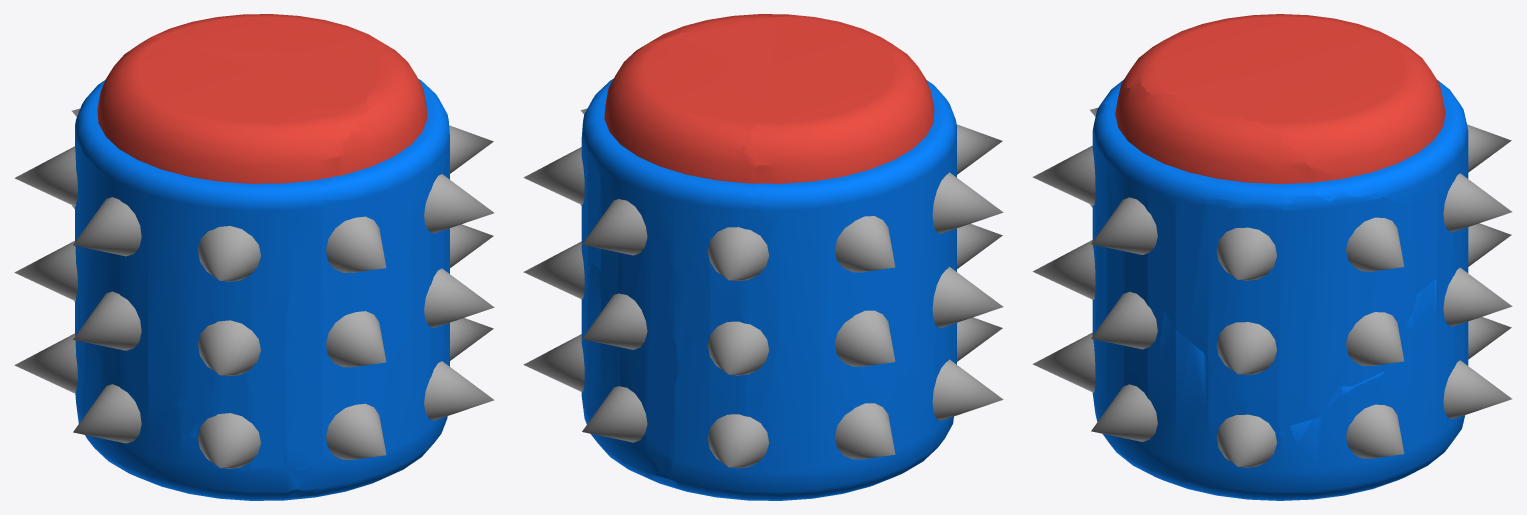
Rendered from obstacle_crush.fbx.
3 renders of one model, left to right at view 1: azimuth 30°, elevation 25°; view 2: azimuth 150°, elevation 25°; view 3: azimuth 270°, elevation 25°, orthographic.
Visible parts, largest first — view 1: shard_06, shard_05, shard_01, shard_07, shard_08, shard_11, shard_09, shard_02, shard_03, shard_12; view 2: shard_06, shard_07, shard_11, shard_10, shard_08, shard_02, shard_04, shard_05, shard_01, shard_12, shard_09; view 3: shard_02, shard_08, shard_11, shard_05, shard_06, shard_09, shard_10, shard_01, shard_03, shard_12, shard_04, shard_07.
Part boxes in pixels (left/top/right/bottom): shard_06: left=14, top=37, right=370, bottom=395; shard_05: left=256, top=44, right=449, bottom=365; shard_01: left=148, top=166, right=445, bottom=469; shard_07: left=14, top=205, right=320, bottom=500; shard_08: left=297, top=318, right=494, bottom=498; shard_11: left=71, top=14, right=384, bottom=116; shard_09: left=405, top=233, right=494, bottom=355; shard_02: left=428, top=121, right=493, bottom=268; shard_03: left=424, top=174, right=493, bottom=233; shard_12: left=286, top=401, right=355, bottom=457; shard_06: left=728, top=15, right=1003, bottom=366; shard_07: left=664, top=262, right=1003, bottom=500; shard_11: left=581, top=23, right=773, bottom=340; shard_10: left=582, top=242, right=682, bottom=490; shard_08: left=523, top=286, right=676, bottom=488; shard_02: left=523, top=85, right=605, bottom=309; shard_04: left=582, top=199, right=647, bottom=255; shard_05: left=589, top=14, right=795, bottom=105; shard_01: left=955, top=317, right=1002, bottom=361; shard_12: left=584, top=158, right=611, bottom=255; shard_09: left=585, top=262, right=608, bottom=307; shard_02: left=1133, top=192, right=1440, bottom=446; shard_08: left=1032, top=294, right=1511, bottom=500; shard_11: left=1197, top=47, right=1511, bottom=209; shard_05: left=1032, top=86, right=1345, bottom=230; shard_06: left=1090, top=14, right=1444, bottom=207; shard_09: left=1091, top=250, right=1443, bottom=441; shard_10: left=1437, top=227, right=1512, bottom=419; shard_01: left=1033, top=209, right=1157, bottom=340; shard_03: left=1091, top=197, right=1157, bottom=254; shard_12: left=1395, top=191, right=1449, bottom=262; shard_04: left=1443, top=173, right=1511, bottom=232; shard_07: left=1467, top=223, right=1511, bottom=359.
Size of the model in its own units: 295 by 242 by 290.
